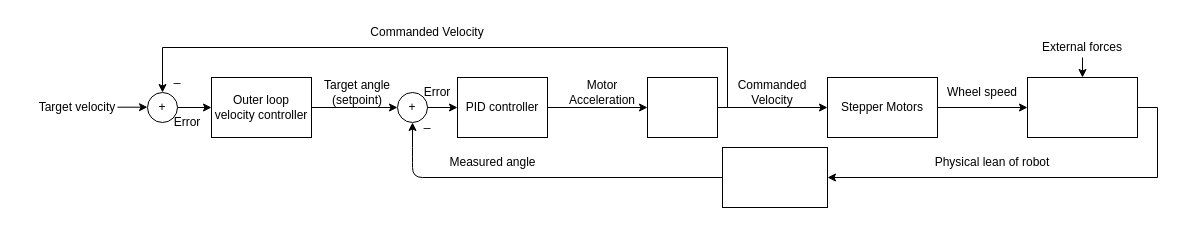
The diagram is 1183 pixels wide and 225 high, and some of its shapes have lost their labels. The box of each missing label's shape, as (x1, y1, x2, y2) in pixels:
IMU (MPU6050): (722, 146, 828, 208)
Integrator: (646, 76, 718, 138)
Robot (plant): (1026, 76, 1138, 138)
